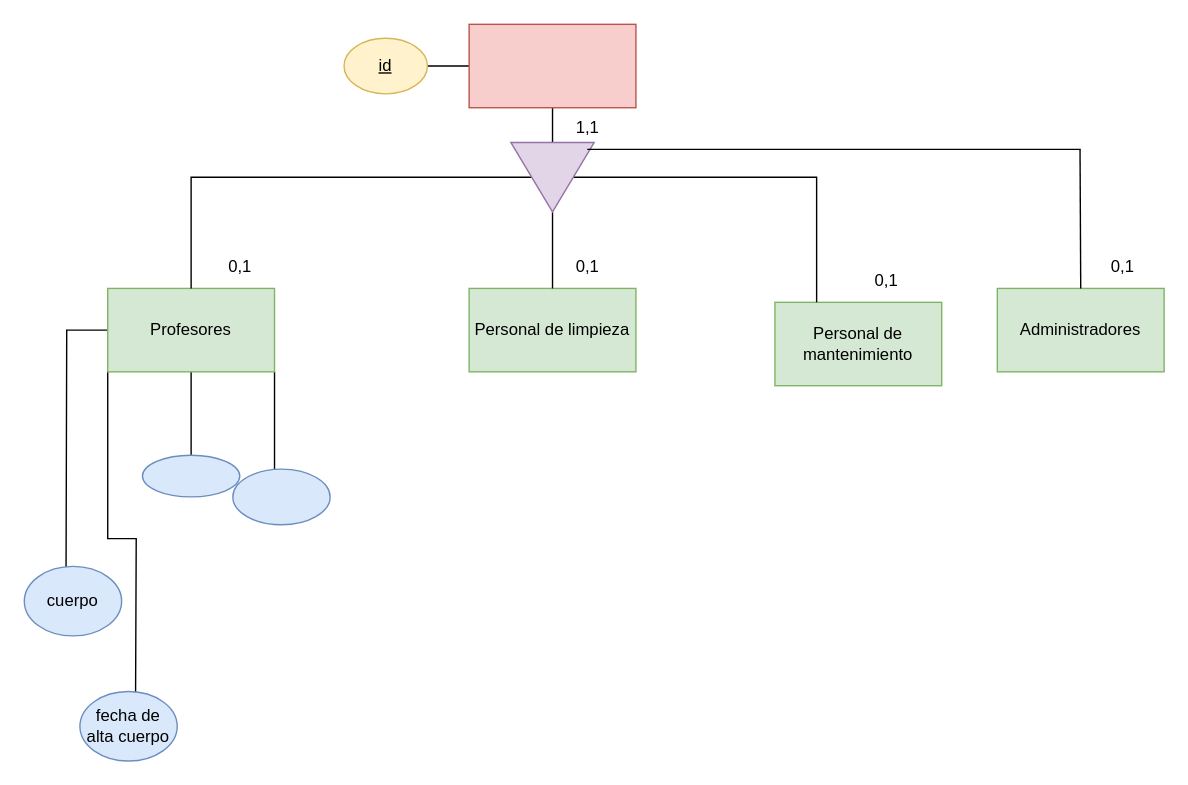
This 1188x785 diagram has some shape labels left out. Each missing label, with the centre of its shape:
"Empleado" goes at (552,65).
"especialidad" goes at (280,496).
"nºregistro" goes at (190,475).
